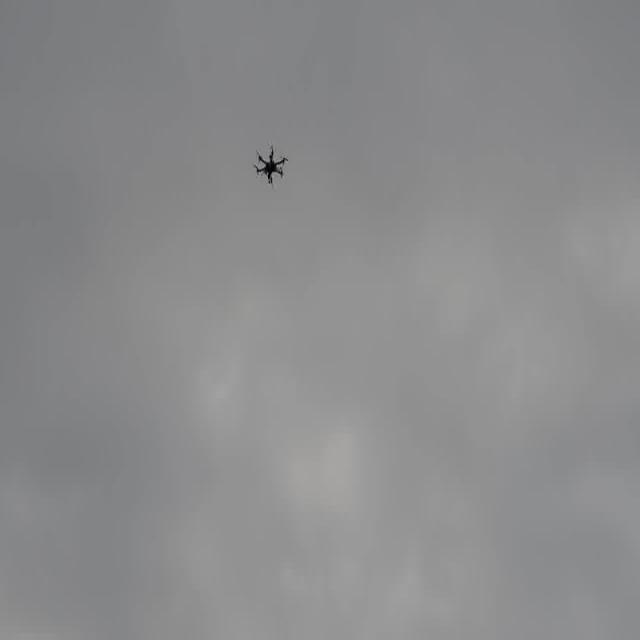drone: (253, 138, 288, 190)
